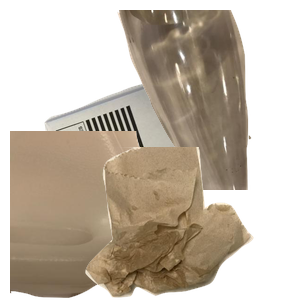glass: (115, 10, 300, 190)
paper: (42, 68, 275, 248)
plastic: (10, 131, 196, 300)
trash: (83, 147, 300, 300)
